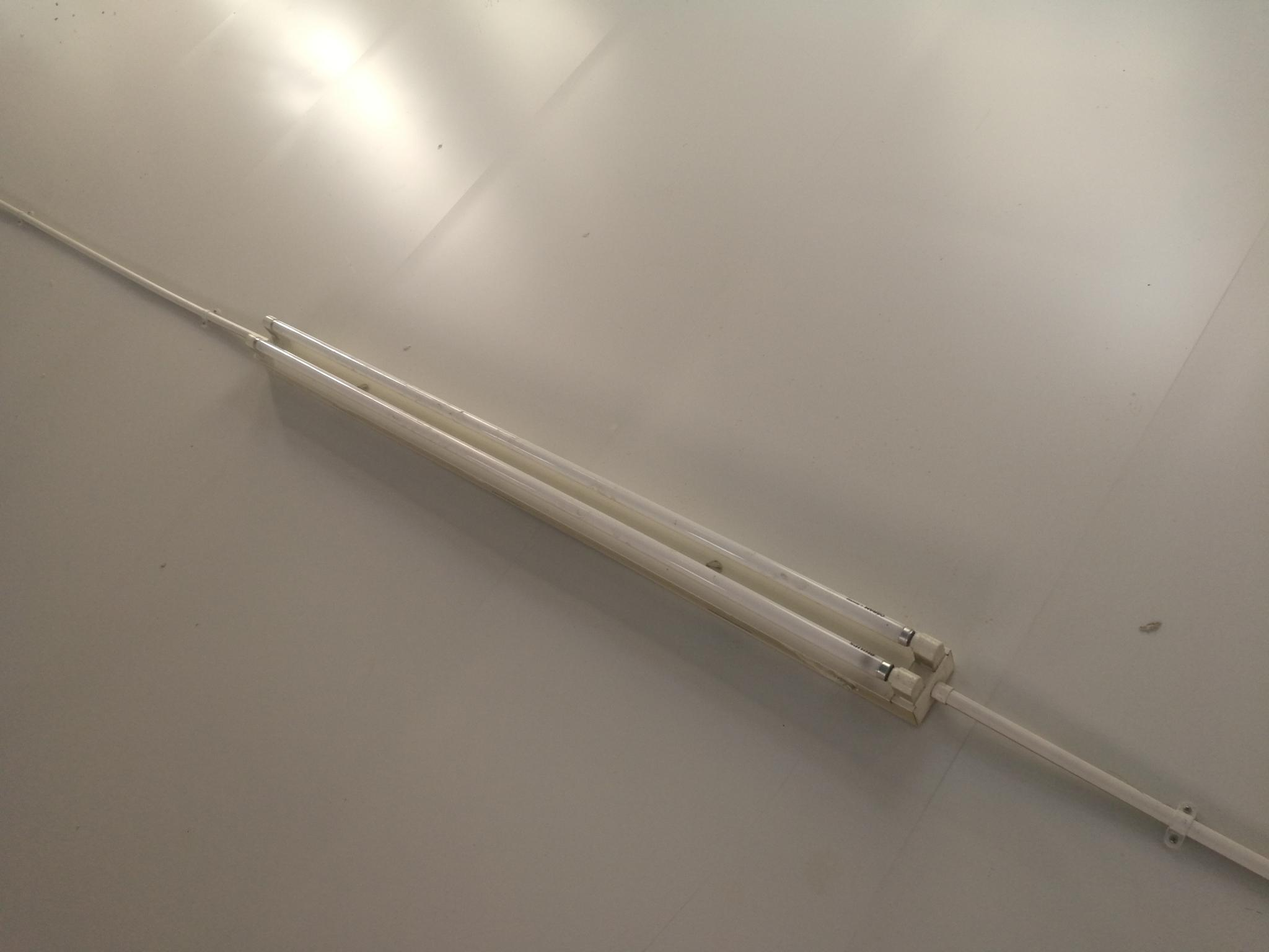light: (242, 310, 952, 720)
